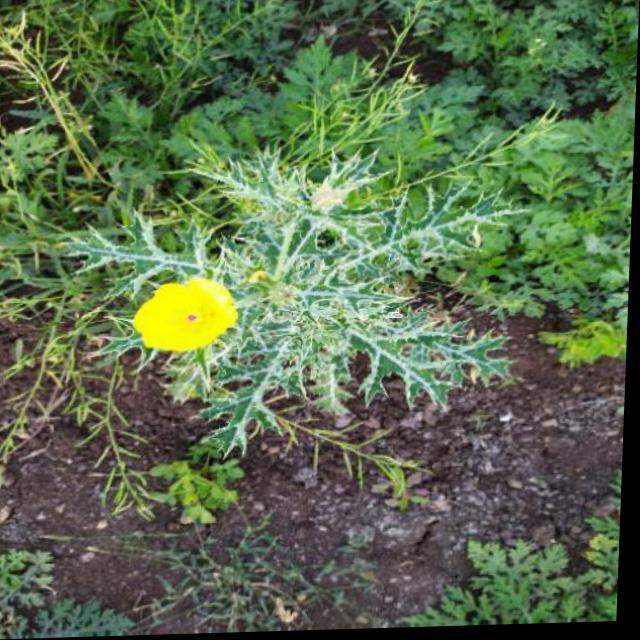weed: (0, 0, 595, 475)
